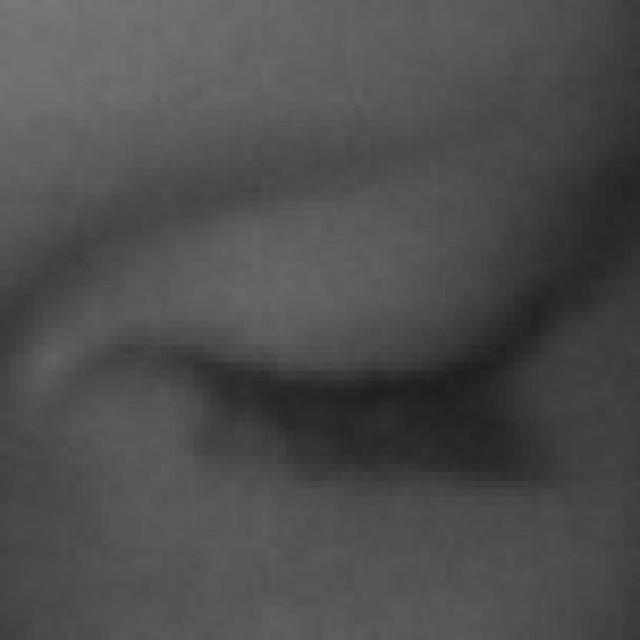drowsy: (162, 173, 590, 584)
